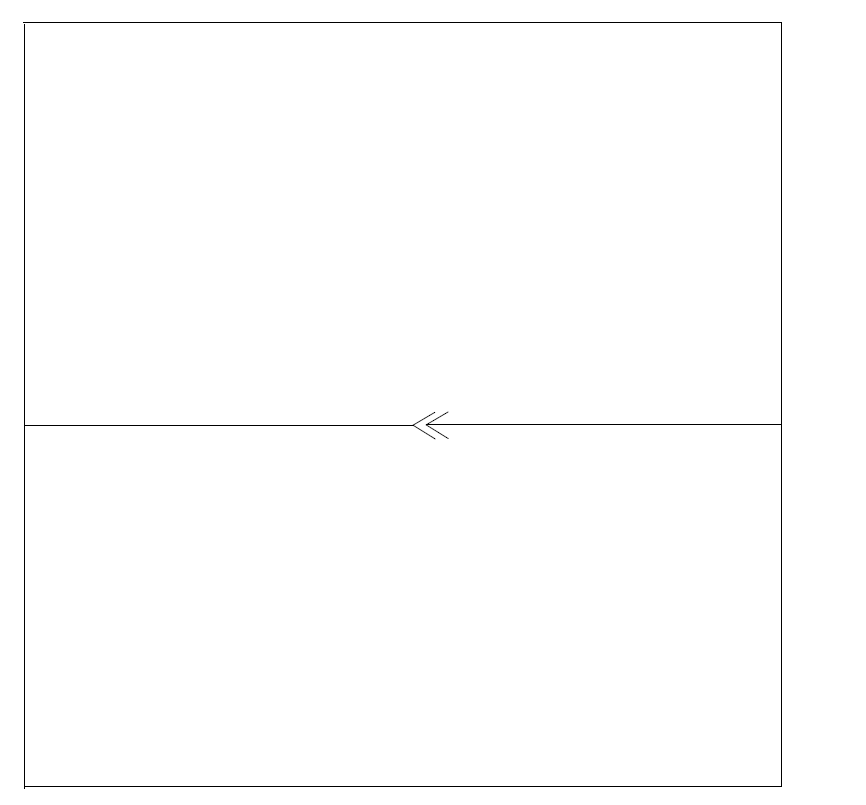LTERMNLB: (399, 394, 466, 454)
